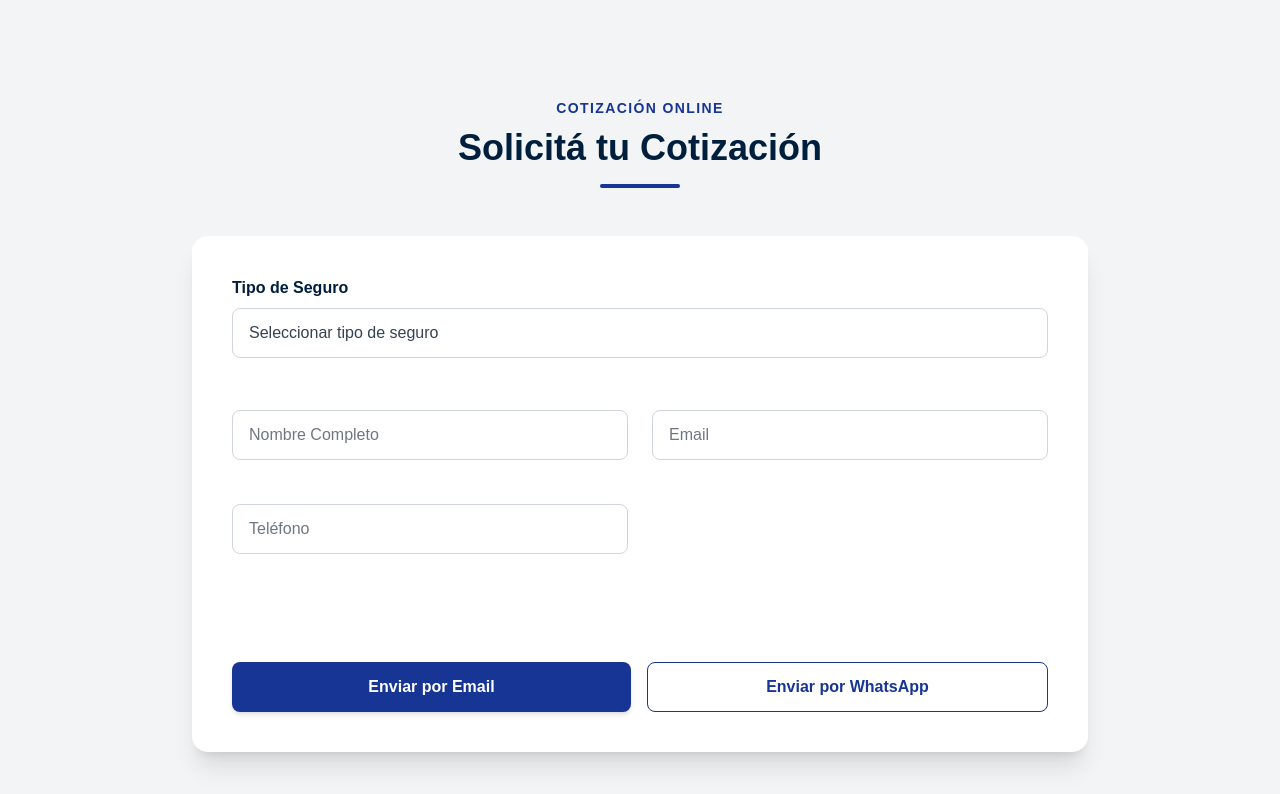
Scenario: Formulario de Cotización Completo › Validaciones de campos dinámicos según tipo de seguro › Validaciones para Seguro de Incendio › no permite enviar si tipo de vivienda no está seleccionado
Select "Incendio" in the dropdown named "tipo de seguro": (640, 333) [232,308,1048,358]
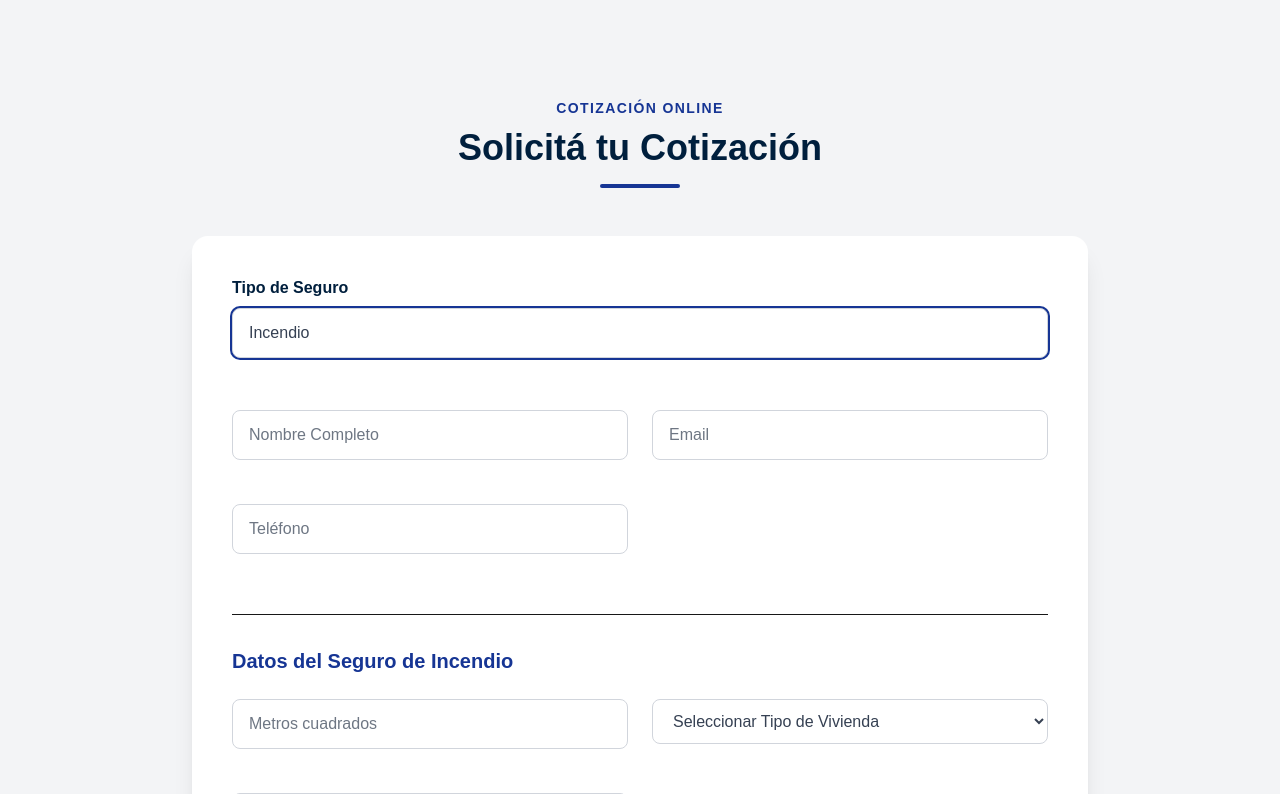
In the number field with placeholder "Metros cuadrados": (430, 724) [232,699,628,749], type "100"
(page scrolled)
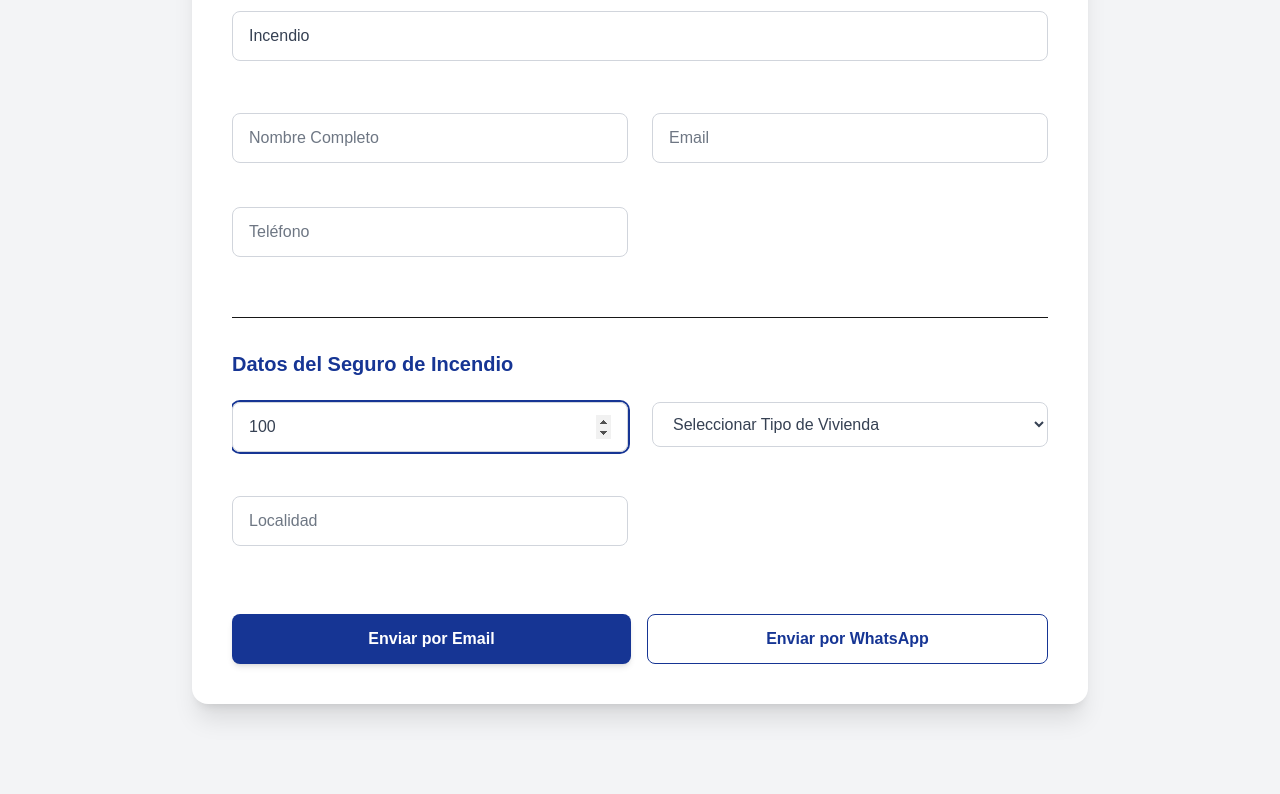
In the field with placeholder "Localidad": (430, 521) [232,496,628,546], type "Ciudad"
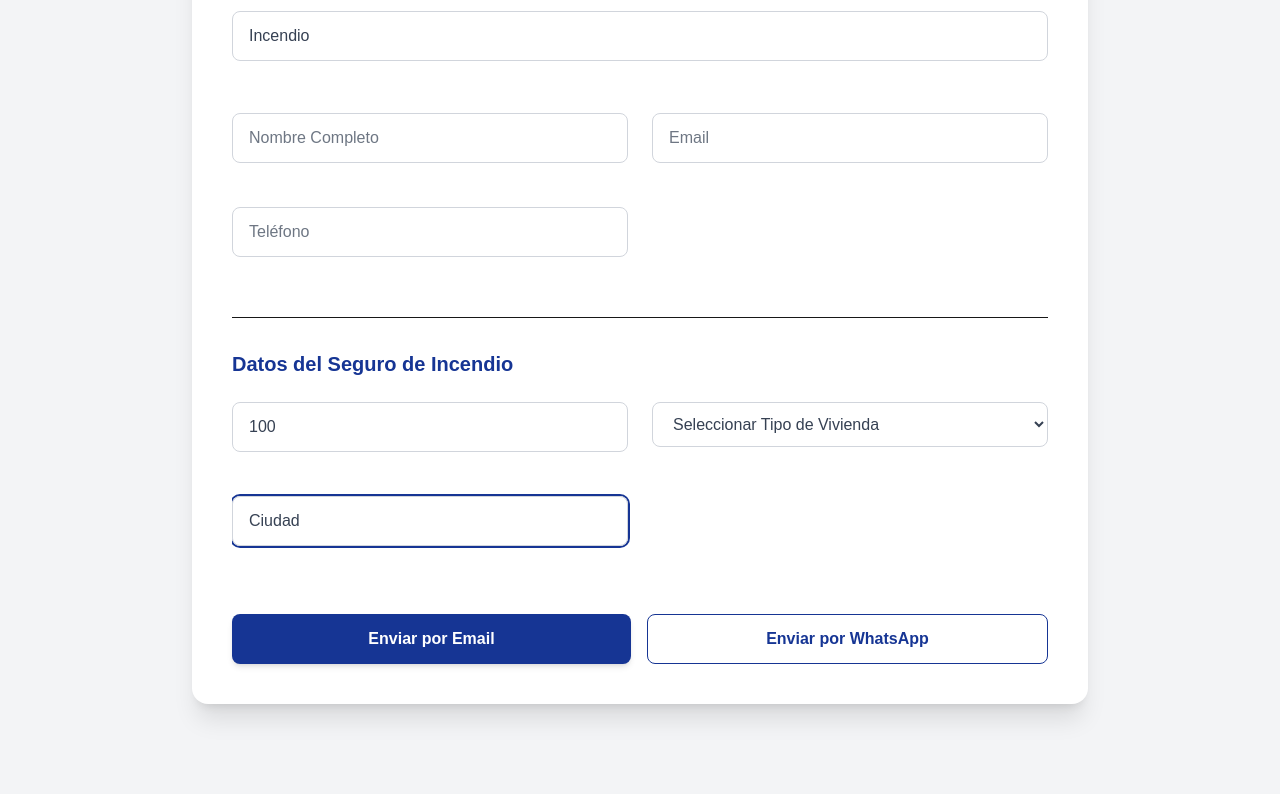
Click the button "Enviar por WhatsApp": (848, 639) [647,614,1048,664]
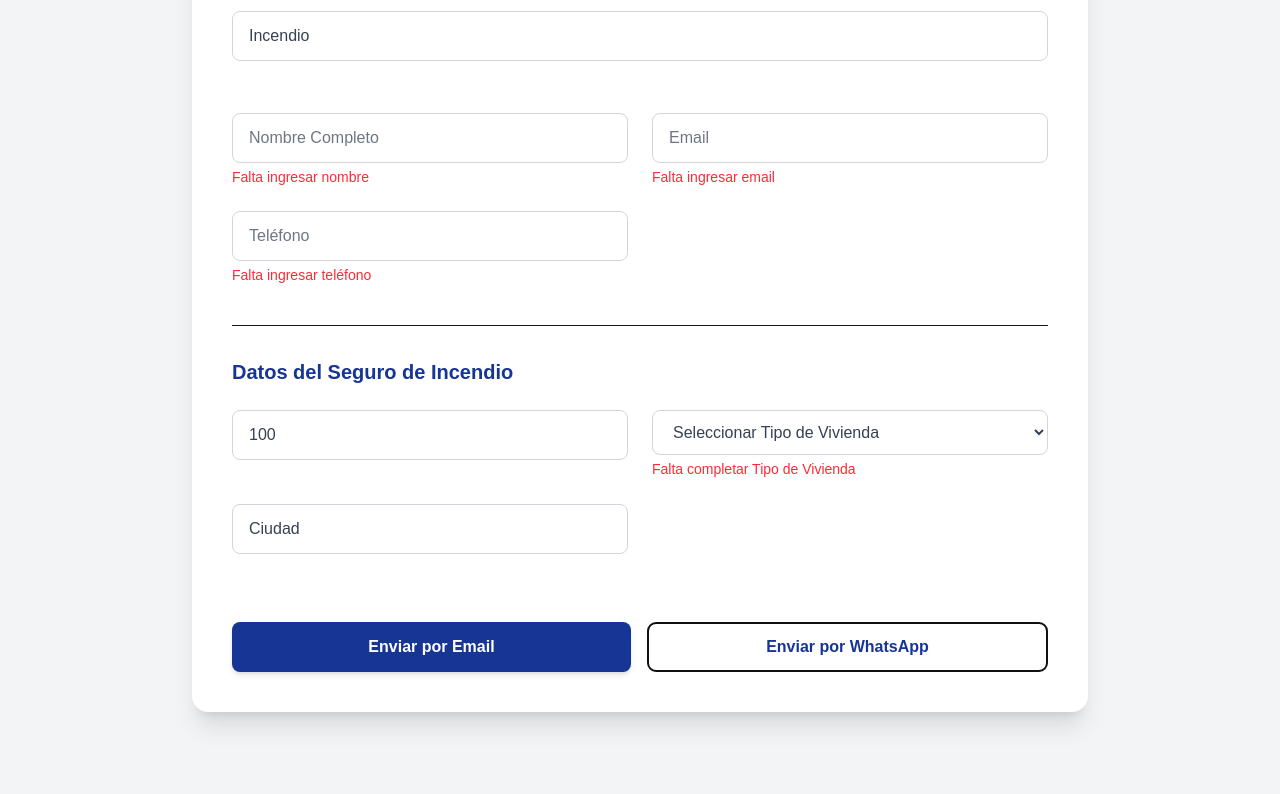
Result: the text "Falta completar Tipo de Vivienda" is shown at [652,461,856,477]
